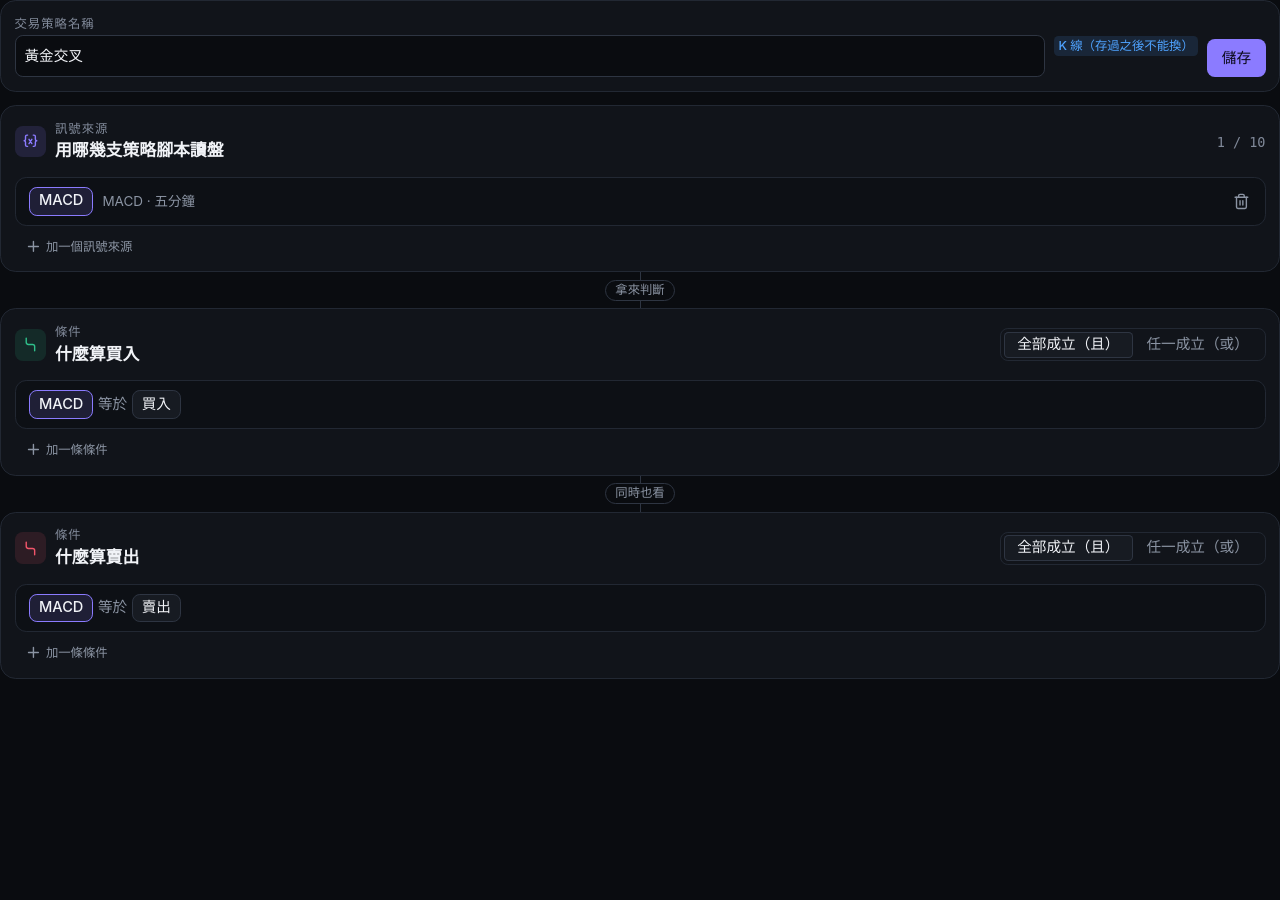
Test case: TradingStrategyWorkbench：手機上可以編 › 手機上設定從下方拉出，每一樣改得動的都在
Click the button with test id "item-buy-MACD" at (51, 400), box x1=14 y1=380 x2=1266 y2=429
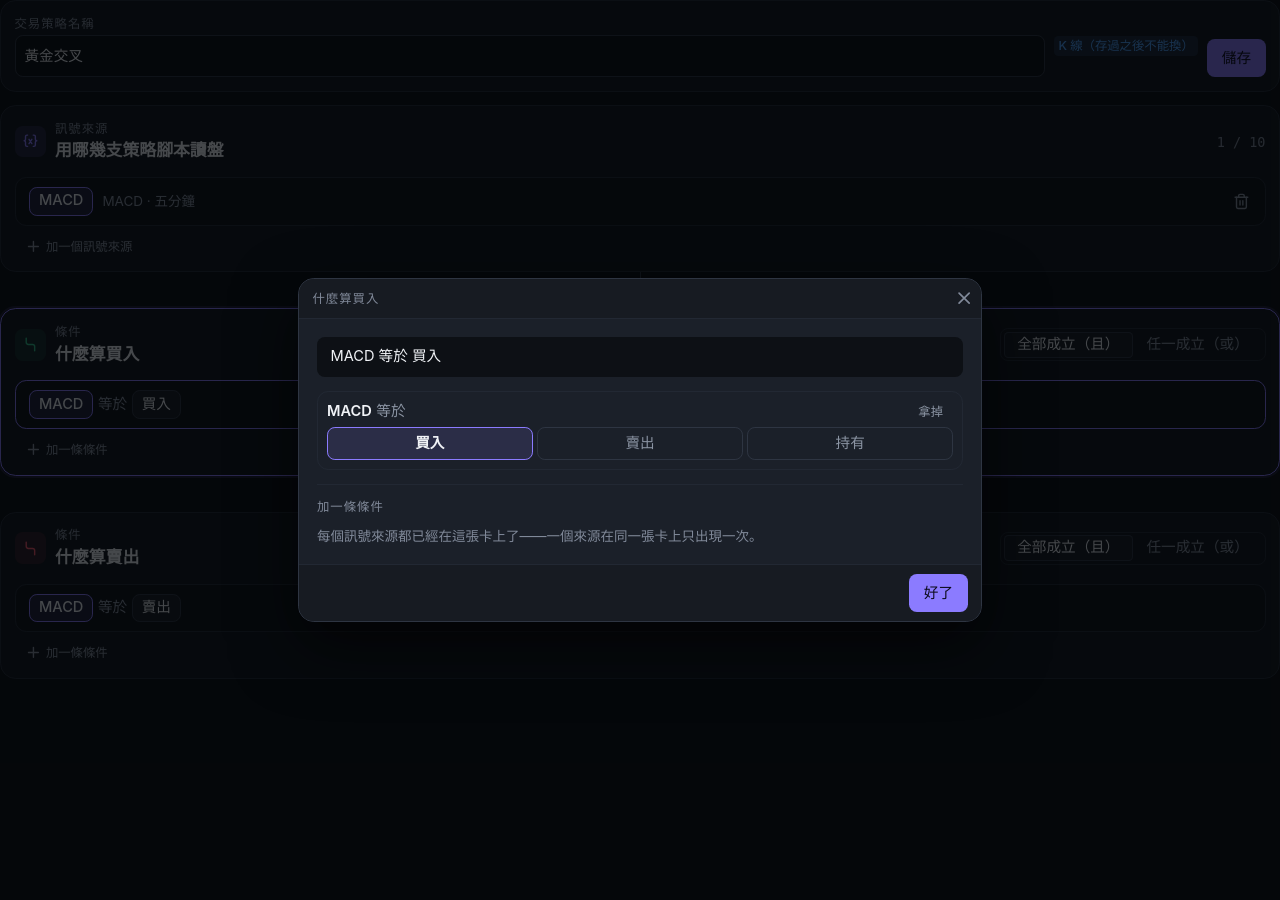
Check: the button with test id "chip-buy-MACD-hold" is shown, box x1=747 y1=427 x2=953 y2=460
Check: the button with test id "take-off-buy-MACD" is shown, box x1=908 y1=401 x2=953 y2=423
Check: the element with test id "clause-adder-buy" is shown, box x1=317 y1=484 x2=963 y2=546
